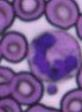N: (28, 31, 81, 80)
